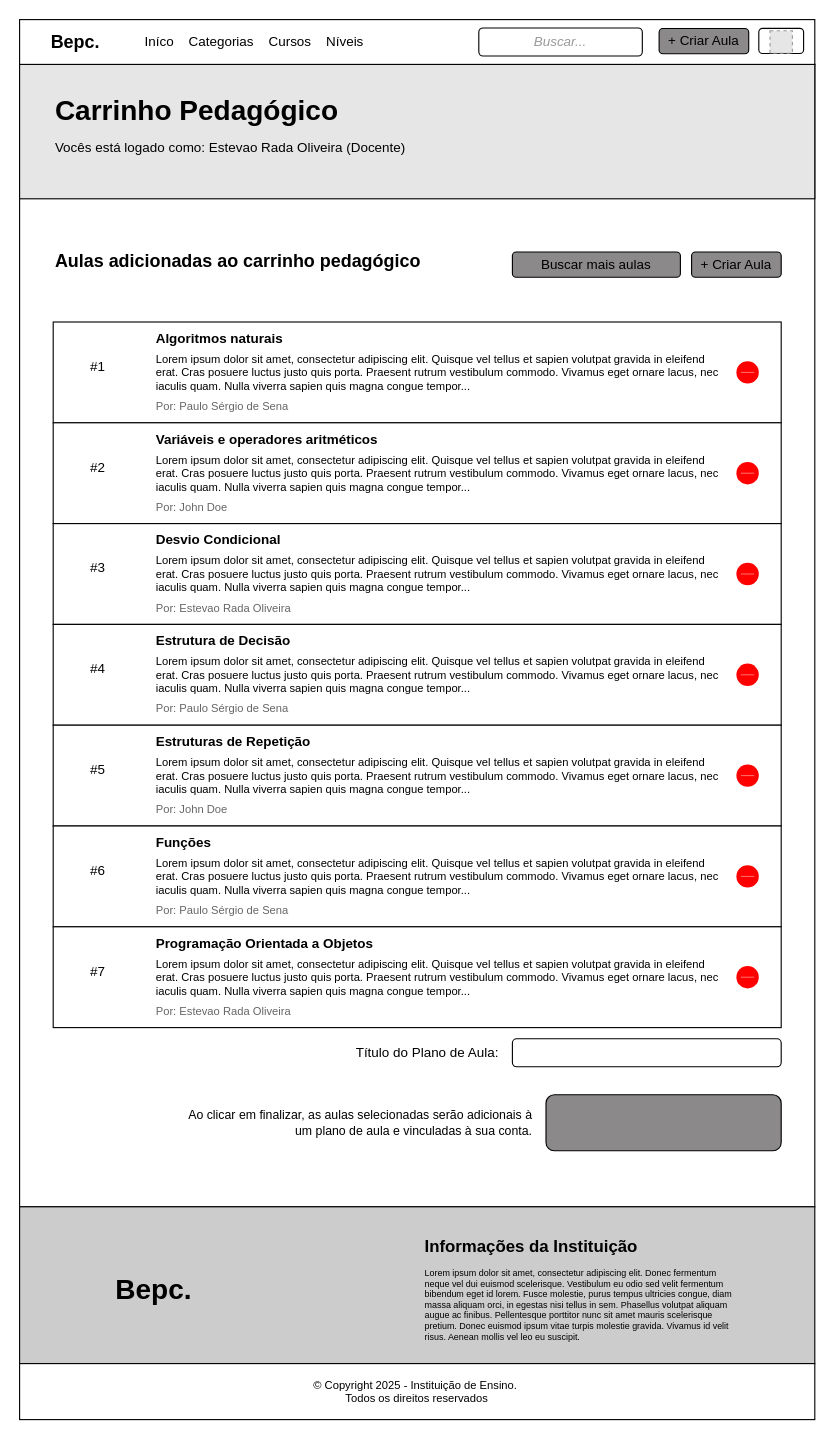
This 834x1439 diagram has some shape labels left out. Grey dashed boxes stand in for pictures. The centre of each missing label's shape, as x and y in pixels:
"Ex.: Introdução à logica de programação (Informática)..." goes at point 646,1052.
"Finalizar" goes at point 663,1122.
